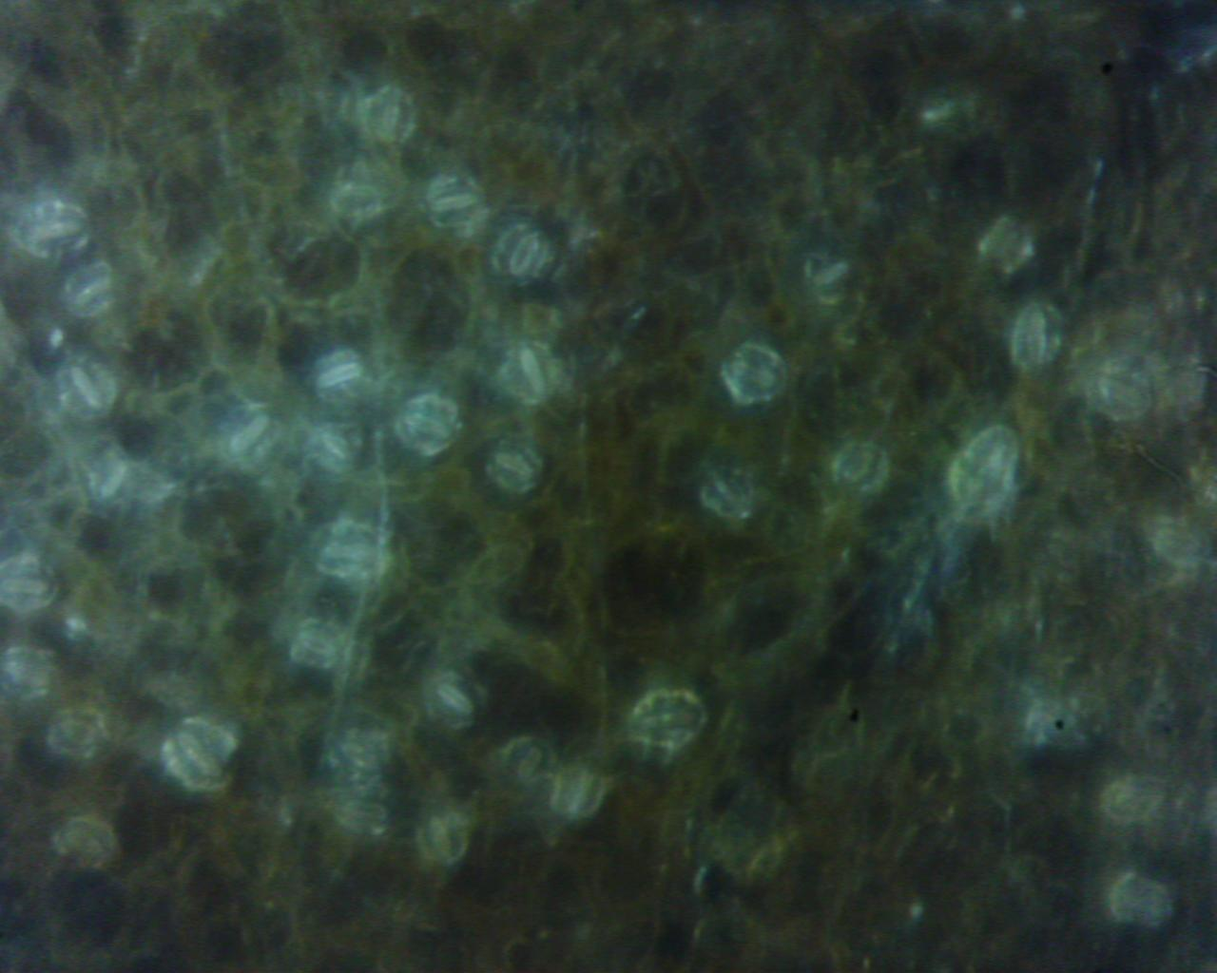stomata: (626, 690, 702, 746), (960, 429, 1014, 506), (310, 526, 382, 577), (22, 202, 87, 257), (366, 86, 417, 145), (497, 225, 549, 281), (333, 791, 396, 837), (728, 349, 780, 404), (334, 172, 400, 215), (405, 401, 458, 453), (177, 732, 232, 781), (1111, 877, 1167, 923), (1014, 309, 1059, 365), (51, 711, 108, 755), (1149, 522, 1210, 563), (510, 344, 554, 400), (6, 652, 55, 701), (428, 182, 482, 225), (68, 363, 111, 416), (69, 271, 117, 318), (226, 409, 271, 459), (1100, 781, 1159, 818), (62, 825, 115, 865), (706, 469, 750, 517), (421, 812, 463, 861), (983, 224, 1030, 265), (1100, 373, 1149, 411), (509, 740, 551, 783), (435, 678, 479, 719), (298, 626, 343, 666), (562, 766, 599, 814), (316, 357, 365, 391), (837, 449, 884, 484), (340, 739, 386, 773), (812, 257, 851, 296), (96, 455, 130, 499), (499, 449, 539, 486)
